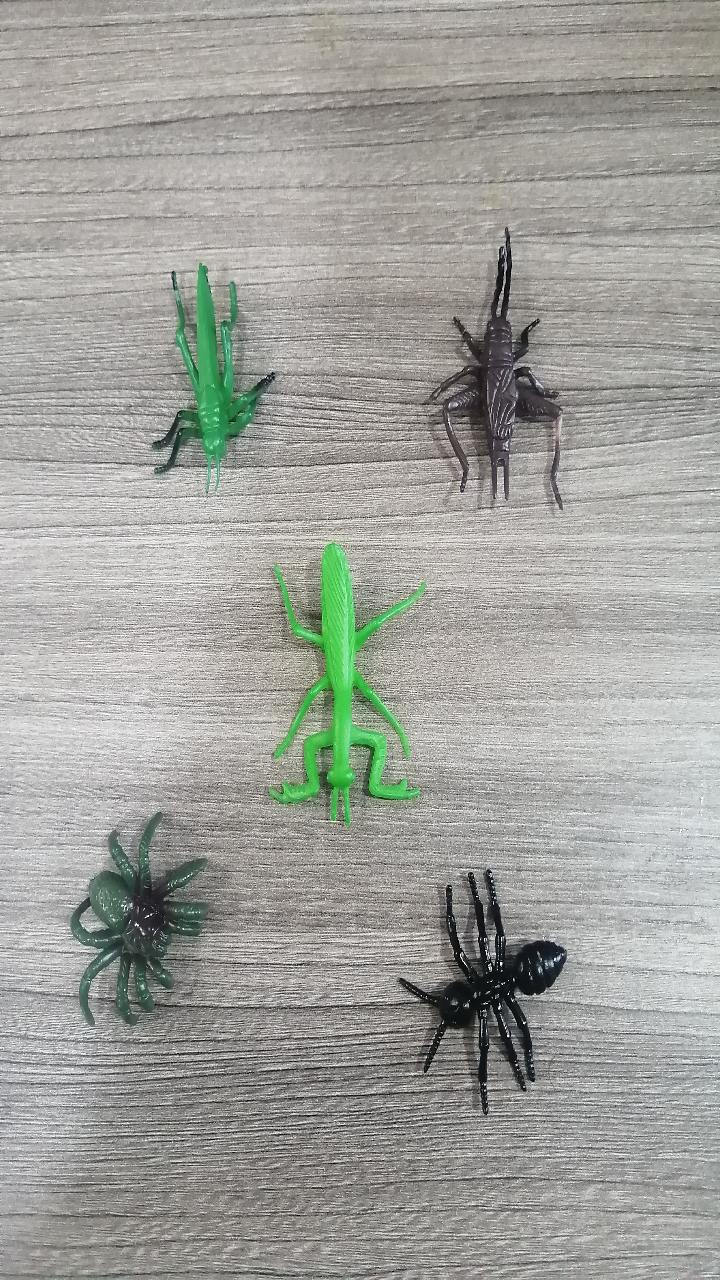intruso: (232, 517, 432, 839), (368, 843, 583, 1129), (411, 197, 586, 529), (31, 782, 223, 1043), (126, 226, 301, 509)
